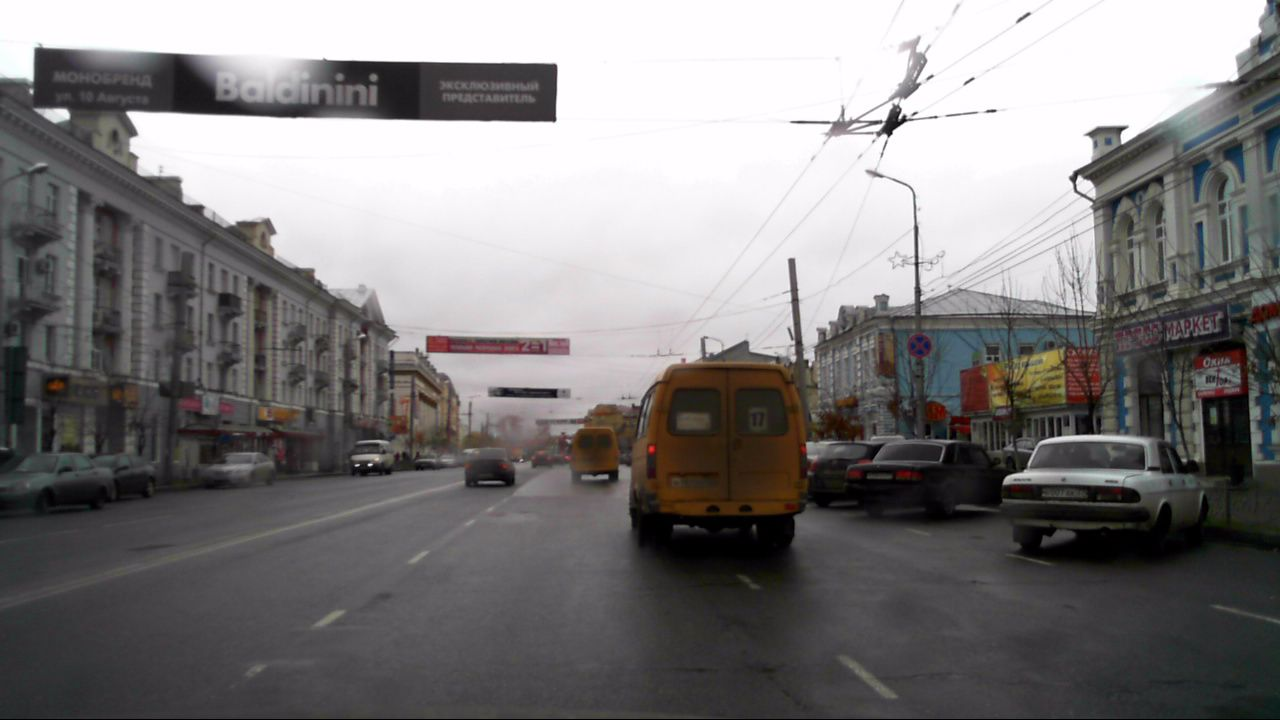No Parking: (906, 333, 931, 359)
